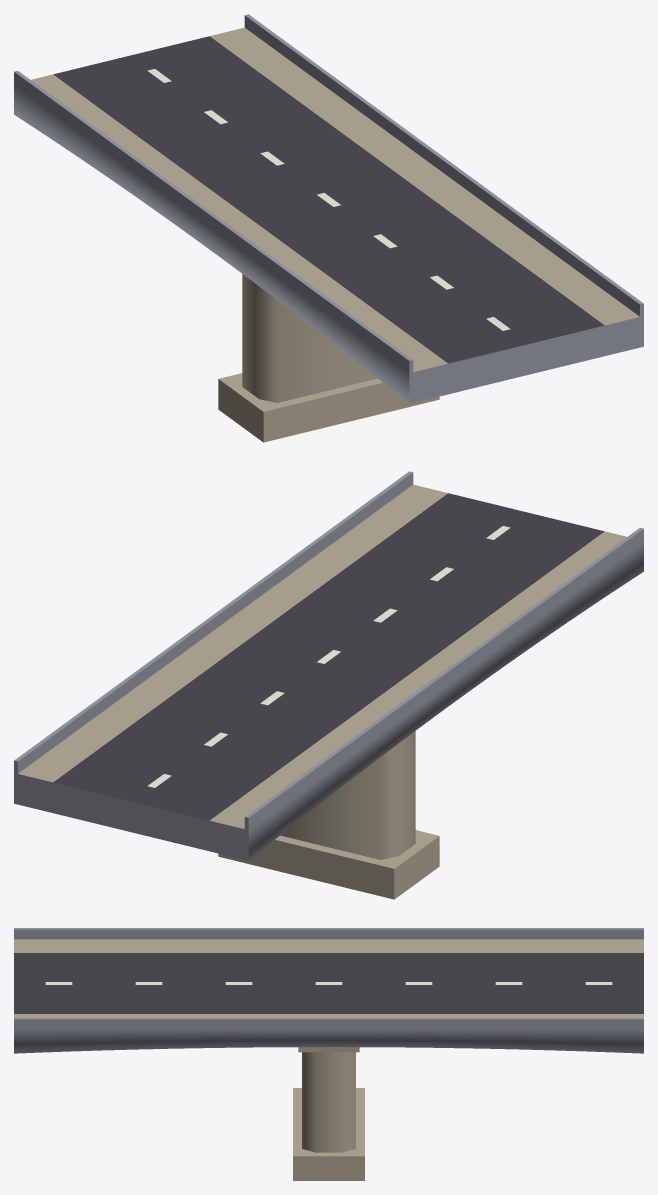
File: Kit_StreetBridge.glb
3 views of the same model, one above another, from view 1: azimuth 30°, elevation 25°; view 2: azimuth 150°, elevation 25°; view 3: azimuth 270°, elevation 25° (orthographic). The views are drawn at different scales.
Parts seen in each view (by area): view 1: Kit_StreetBridge_Span, Kit_StreetBridge_Pier; view 2: Kit_StreetBridge_Span, Kit_StreetBridge_Pier; view 3: Kit_StreetBridge_Span, Kit_StreetBridge_Pier.
Boxes of the visible parts, bbox=[...] form: Kit_StreetBridge_Span: bbox=[14, 14, 643, 403]; Kit_StreetBridge_Pier: bbox=[218, 274, 439, 442]; Kit_StreetBridge_Span: bbox=[14, 471, 643, 860]; Kit_StreetBridge_Pier: bbox=[218, 731, 439, 899]; Kit_StreetBridge_Span: bbox=[14, 928, 643, 1053]; Kit_StreetBridge_Pier: bbox=[293, 1047, 364, 1180].
Size of the model in its own units: 24 by 21.2 by 70.
